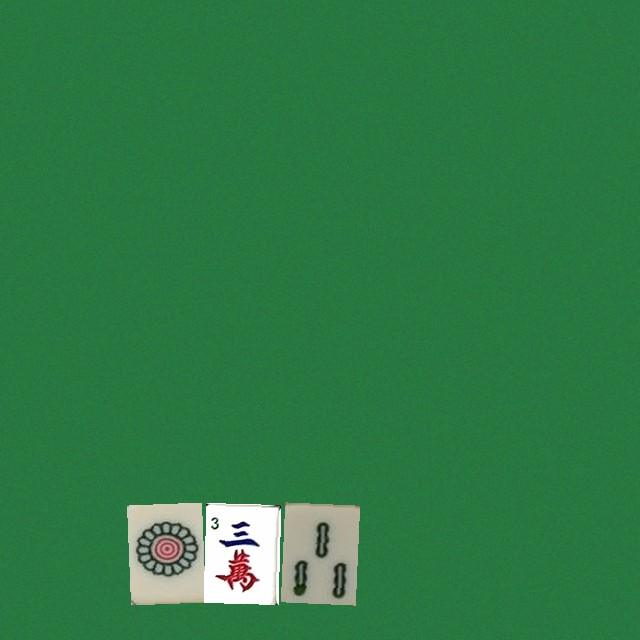tile: (126, 502, 201, 602), (203, 502, 278, 602), (280, 502, 355, 602)
